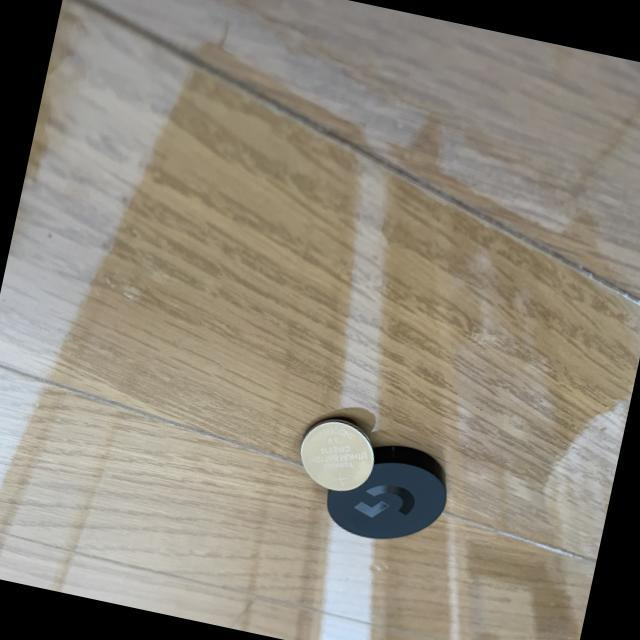COIN: (292, 410, 381, 497)
